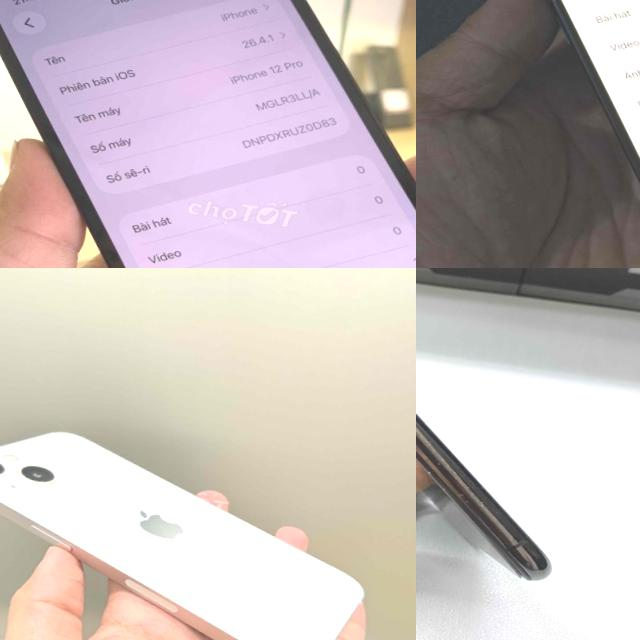scratch: (448, 480, 502, 510), (417, 461, 443, 485)
